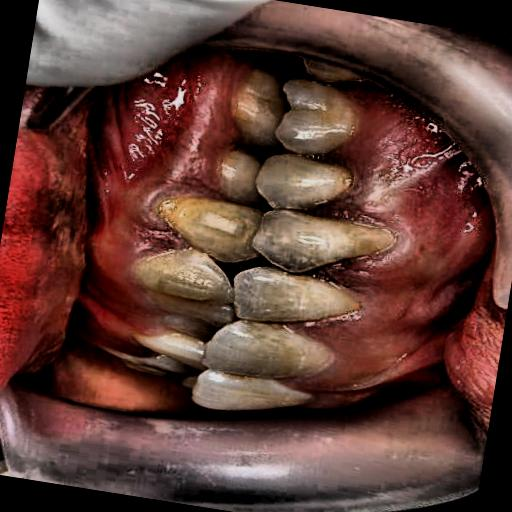Gingivitis: (307, 79, 477, 346)
